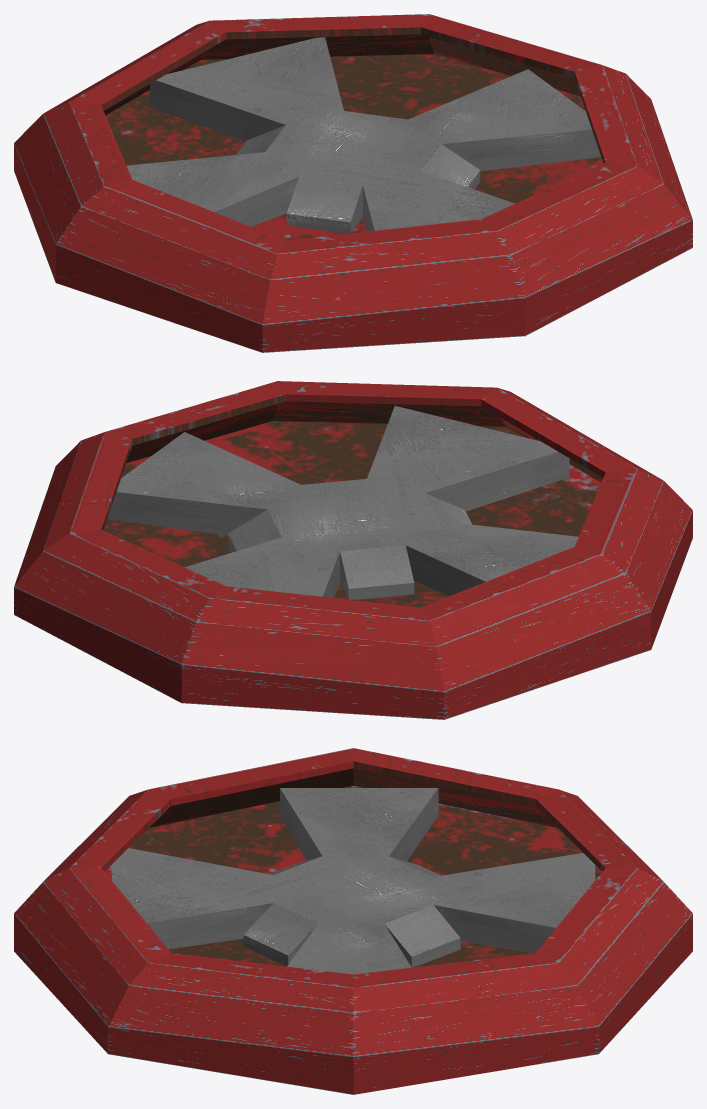
Rendered from Fan.gltf.
3 renders of one model, top to bottom at view 1: azimuth 30°, elevation 25°; view 2: azimuth 150°, elevation 25°; view 3: azimuth 270°, elevation 25°, orthographic.
Parts seen in each view (by area): view 1: Base, Propellers; view 2: Base, Propellers; view 3: Base, Propellers.
Boxes of the visible parts, bbox=[...] form: Base: bbox=[14, 14, 692, 352]; Propellers: bbox=[126, 37, 601, 233]; Base: bbox=[14, 381, 692, 719]; Propellers: bbox=[107, 406, 578, 599]; Base: bbox=[14, 748, 692, 1094]; Propellers: bbox=[111, 788, 595, 974].
Size of the model in its own units: 10.98 by 1.49 by 10.98.
Materials: 2 (2 with a texture image).
